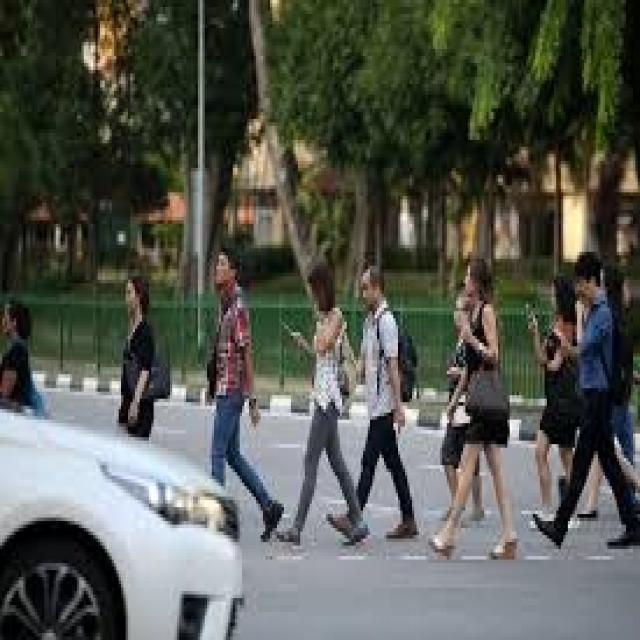Passenger Car: (2, 412, 255, 640)
Pedestrians: (535, 248, 640, 563), (428, 255, 522, 560), (282, 262, 366, 553), (202, 248, 282, 542), (116, 276, 170, 441), (2, 294, 46, 412)
